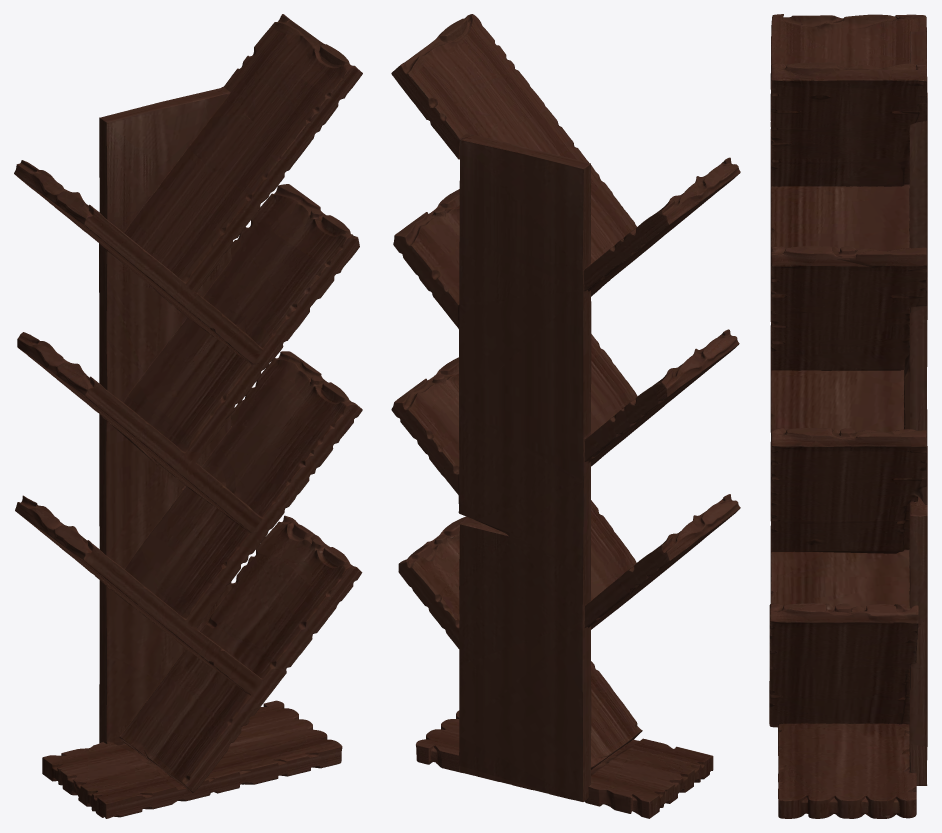
Rendered from ecoline-7-tier-tree-shaped-book-shelf-for-home-living-room-w.glb.
3 views of the same model, side by side, from view 1: azimuth 30°, elevation 25°; view 2: azimuth 150°, elevation 25°; view 3: azimuth 270°, elevation 25° (orthographic). The views are drawn at different scales.
Parts seen in each view (by area): view 1: Mesh_0; view 2: Mesh_0; view 3: Mesh_0.
Part boxes in pixels (box(x1,y1,x2,y2)): Mesh_0: box(14, 14, 362, 818); Mesh_0: box(391, 14, 740, 818); Mesh_0: box(769, 14, 927, 818).
Bounding box in the file's own units: 0.7968 × 1.9 × 0.36.
1 material, 1 textured.
